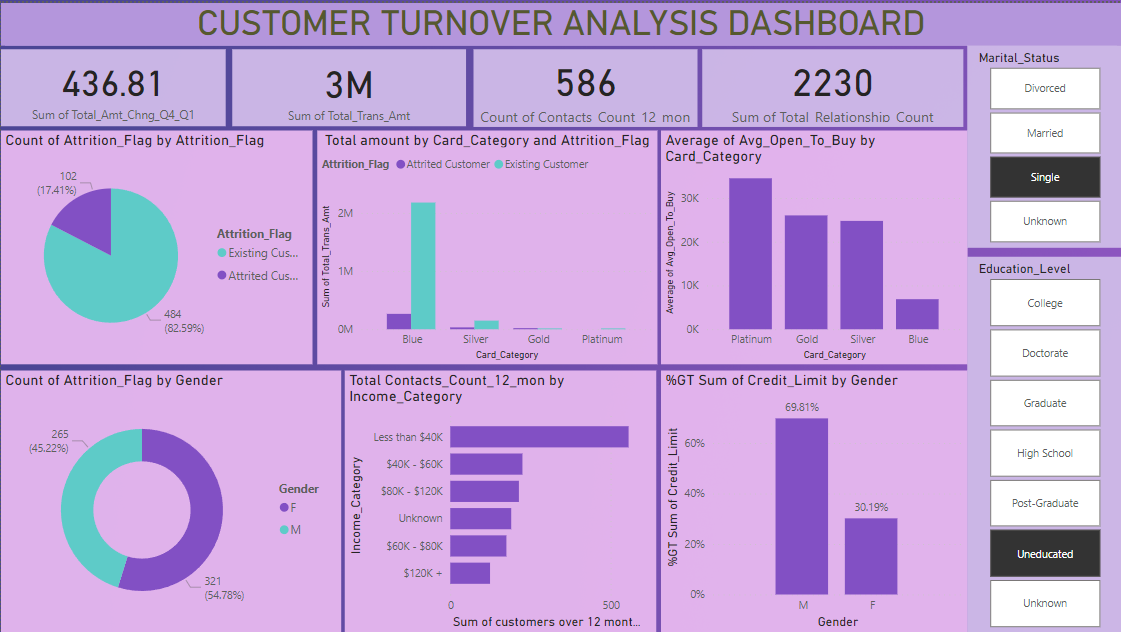

The page's visual inventory and layout, read from the dashboard file:
{"tool":"powerbi","page":{"name":"Page 1","canvas":[1280,720],"ordinal":0},"visuals":[{"type":"textbox","title":"CUSTOMER TURNOVER ANALYSIS DASHBOARD","box":[0,0,1280,48.5],"z":1000},{"type":"barChart","title":"Total Contacts_Count_12_mon by Income_Category","fields":{"Category":["BankChurners.Income_Category"],"Y":["Sum(BankChurners.Contacts_Count_12_mon)"]},"box":[392.9,420,355.7,300],"z":2000},{"type":"clusteredColumnChart","title":"Total amount by Card_Category and Attrition_Flag","fields":{"Category":["BankChurners.Card_Category"],"Y":["Sum(BankChurners.Total_Trans_Amt)"],"Series":["BankChurners.Attrition_Flag"]},"box":[361.4,145.7,388.6,267.1],"z":3000},{"type":"card","fields":{"Values":["Sum(BankChurners.Total_Amt_Chng_Q4_Q1)"]},"box":[0,53.4,256.8,88.3],"z":4000},{"type":"card","fields":{"Values":["Sum(BankChurners.Total_Trans_Amt)"]},"box":[264.9,53.4,267.2,88.3],"z":4001},{"type":"donutChart","fields":{"Category":["BankChurners.Gender"],"Y":["CountNonNull(BankChurners.Attrition_Flag)"]},"box":[0,420,388.6,300],"z":4002},{"type":"card","fields":{"Values":["CountNonNull(BankChurners.Contacts_Count_12_mon)"]},"box":[540,52.9,255.7,88.6],"z":4003},{"type":"clusteredColumnChart","fields":{"Category":["BankChurners.Card_Category"],"Y":["Avg(BankChurners.Avg_Open_To_Buy)"]},"box":[754.3,145.7,350,267.1],"z":4004},{"type":"clusteredColumnChart","fields":{"Y":["Sum(BankChurners.Credit_Limit)"],"Category":["BankChurners.Gender"]},"box":[754.3,420,350,300],"z":4005},{"type":"pieChart","fields":{"Category":["BankChurners.Attrition_Flag"],"Y":["CountNonNull(BankChurners.Attrition_Flag)"]},"box":[0,145.7,355.7,267.1],"z":4006},{"type":"slicer","fields":{"Values":["BankChurners.Marital_Status"]},"box":[1104.3,48.6,175.7,231.4],"z":4007},{"type":"slicer","fields":{"Values":["BankChurners.Education_Level"]},"box":[1104.3,290,175.7,430],"z":4008},{"type":"card","fields":{"Values":["Sum(BankChurners.Total_Relationship_Count)"]},"box":[801.4,52.9,298.6,88.6],"z":4009}]}

Visuals, with their boxes in screenshot pixels (x1, y1, x2, y2), scaled from the page's 1280x720 canvas onto the 1121x632 screenshot:
"CUSTOMER TURNOVER ANALYSIS DASHBOARD" textbox: bbox(0, 0, 1120, 43)
"Total Contacts_Count_12_mon by Income_Category" barChart: bbox(344, 369, 656, 631)
"Total amount by Card_Category and Attrition_Flag" clusteredColumnChart: bbox(317, 128, 657, 362)
card - Sum(BankChurners.Total_Amt_Chng_Q4_Q1): bbox(0, 47, 225, 124)
card - Sum(BankChurners.Total_Trans_Amt): bbox(232, 47, 466, 124)
donutChart - BankChurners.Gender x CountNonNull(BankChurners.Attrition_Flag): bbox(0, 369, 340, 631)
card - CountNonNull(BankChurners.Contacts_Count_12_mon): bbox(473, 46, 697, 124)
clusteredColumnChart - BankChurners.Card_Category x Avg(BankChurners.Avg_Open_To_Buy): bbox(661, 128, 967, 362)
clusteredColumnChart - Sum(BankChurners.Credit_Limit) x BankChurners.Gender: bbox(661, 369, 967, 631)
pieChart - BankChurners.Attrition_Flag x CountNonNull(BankChurners.Attrition_Flag): bbox(0, 128, 312, 362)
slicer - BankChurners.Marital_Status: bbox(967, 43, 1120, 246)
slicer - BankChurners.Education_Level: bbox(967, 255, 1120, 631)
card - Sum(BankChurners.Total_Relationship_Count): bbox(702, 46, 963, 124)
